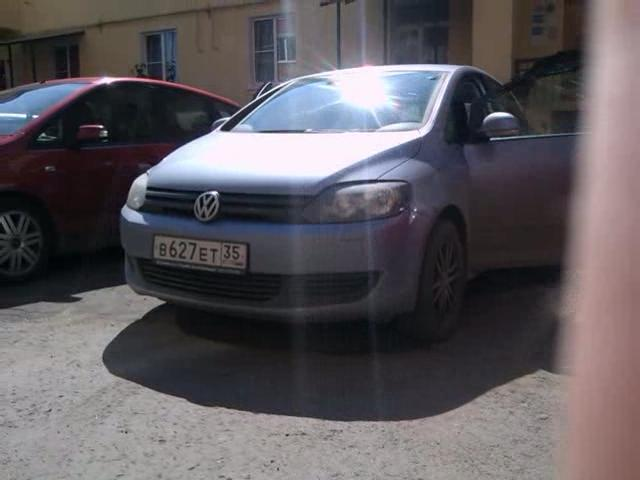car license plate: (149, 229, 251, 273)
